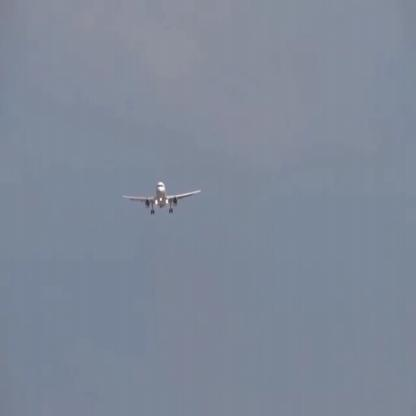CIV_Plane: (123, 178, 202, 216)
